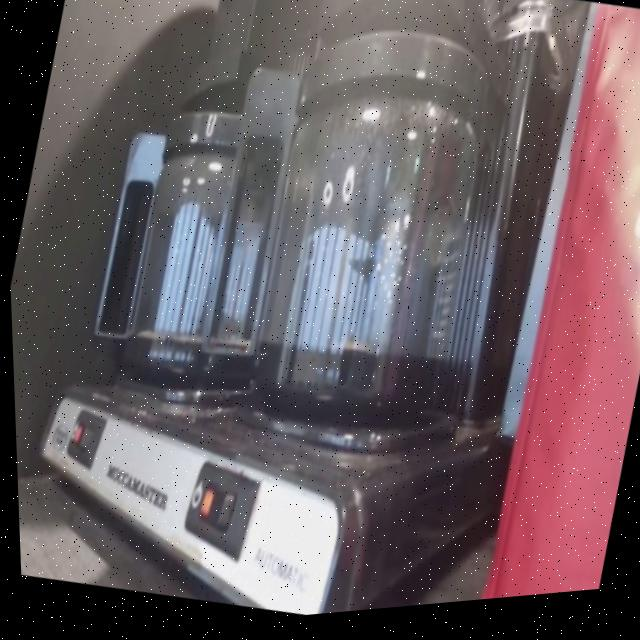coffee: (217, 103, 499, 463), (91, 134, 289, 415)
